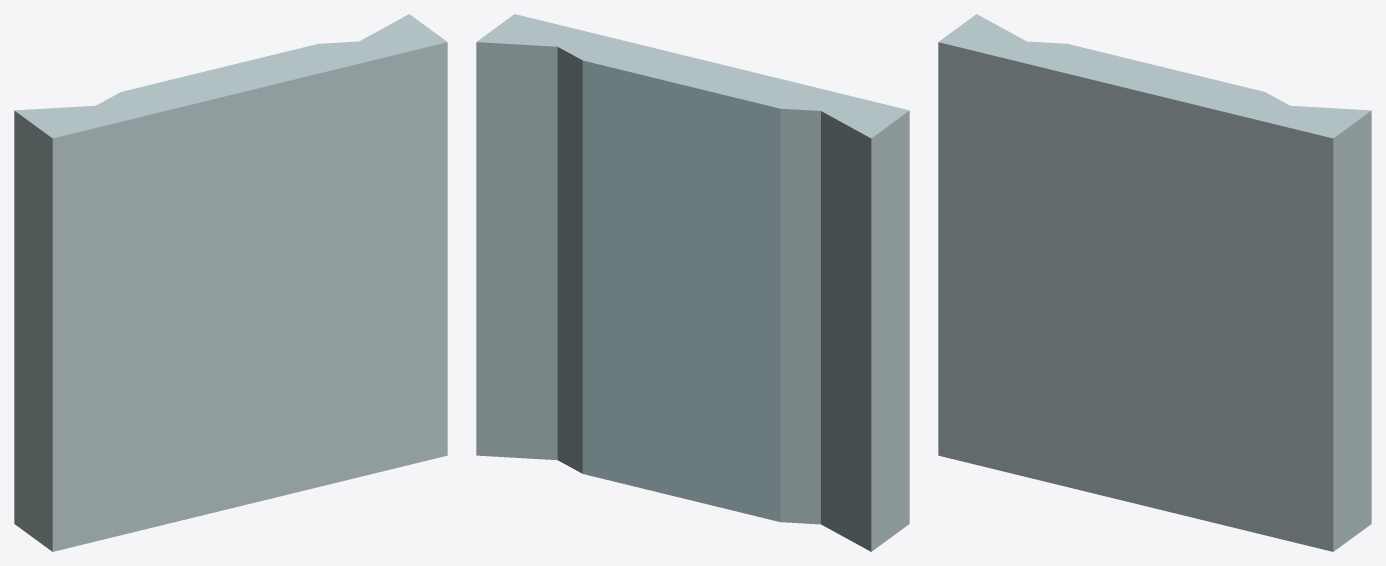
Rendered from cliff_waterfall_stone.glb.
3 renders of one model, left to right at view 1: azimuth 30°, elevation 25°; view 2: azimuth 150°, elevation 25°; view 3: azimuth 330°, elevation 25°, orthographic.
Visible parts, largest first — view 1: cliff_waterfall_stone; view 2: cliff_waterfall_stone; view 3: cliff_waterfall_stone.
Part boxes in pixels (x1,y1,x2,y2): cliff_waterfall_stone: [14, 14, 447, 551]; cliff_waterfall_stone: [476, 14, 909, 551]; cliff_waterfall_stone: [938, 14, 1371, 551].
Bounding box in the file's own units: 1 × 1 × 0.1685.
